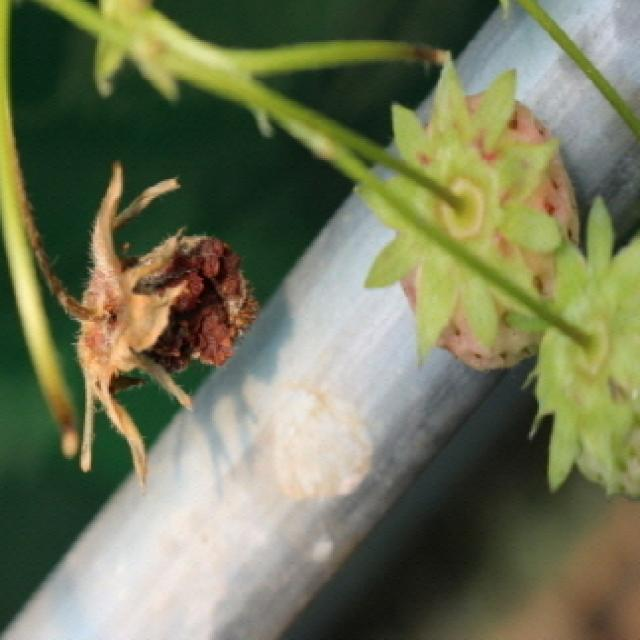Gray Mold: (57, 162, 261, 490)
